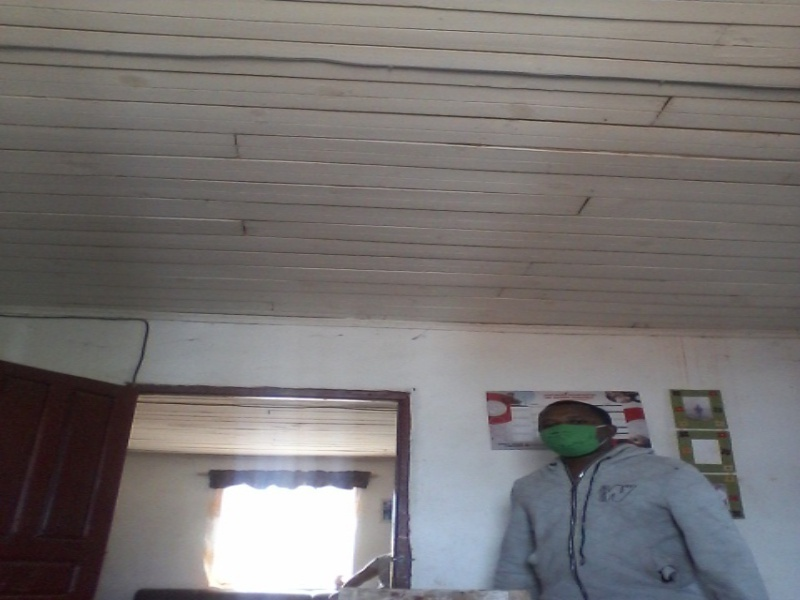ManaoArotava: (524, 389, 620, 467)
